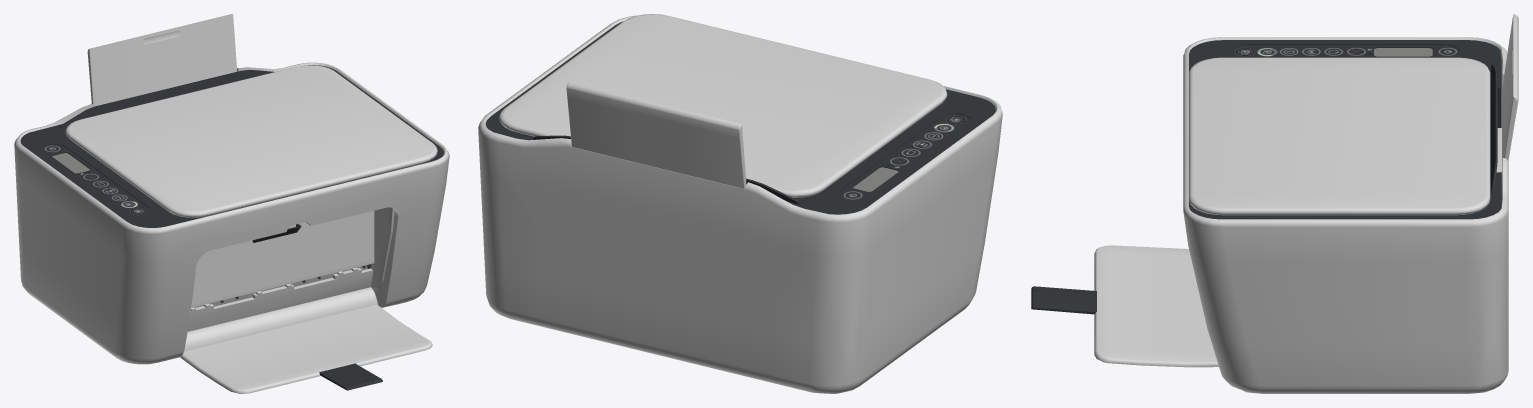
Rendered from copier.glb.
3 renders of one model, left to right at view 1: azimuth 30°, elevation 25°; view 2: azimuth 150°, elevation 25°; view 3: azimuth 270°, elevation 25°, orthographic. The views are drawn at different scales.
Parts seen in each view (by area): view 1: copier; view 2: copier; view 3: copier.
Boxes of the visible parts, left/top/right/bottom form: copier: left=14, top=14, right=449, bottom=393; copier: left=478, top=14, right=1002, bottom=393; copier: left=1031, top=14, right=1518, bottom=393.
Size of the model in its own units: 0.7244 by 0.4619 by 0.8.
5 materials, 1 textured.
